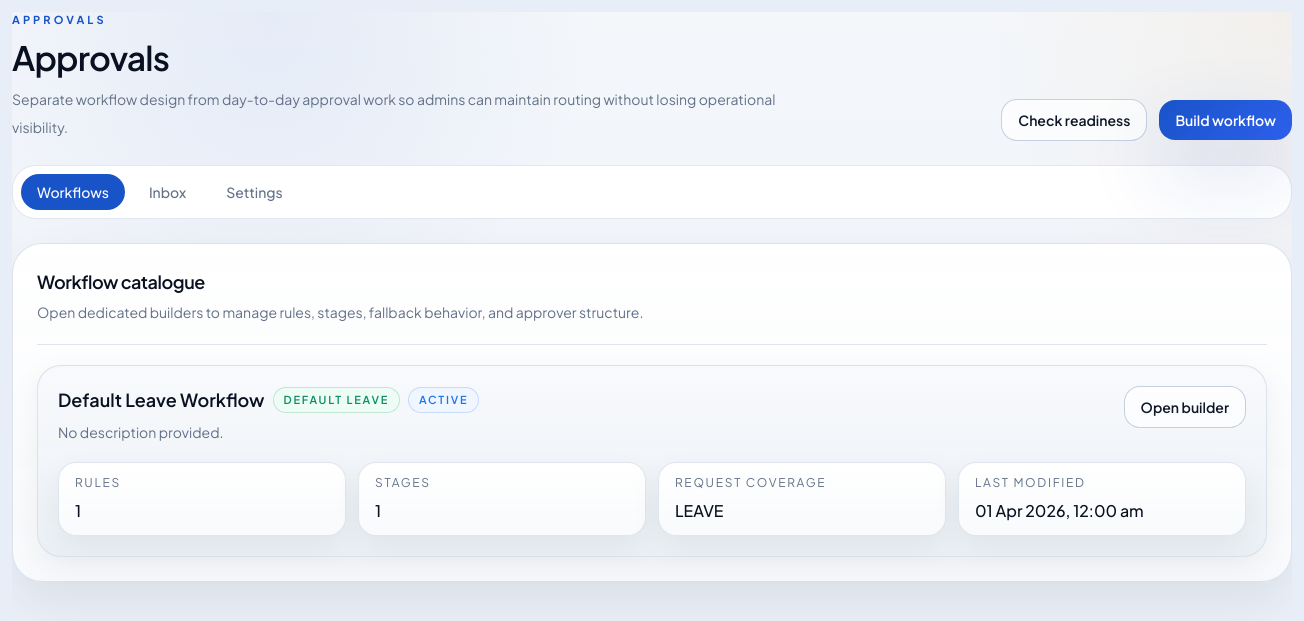
Test case: ApprovalWorkflowsPage › renders org-admin workflow catalogue and switches to the inbox tab
This screenshot has width=1304, height=621.
Expected: the heading "Approvals" is shown, [12,36,169,78]
Expected: the button "Build workflow" is shown, [1159,100,1292,140]
Click the button "Inbox": {"x": 168, "y": 192} [133,174,202,210]
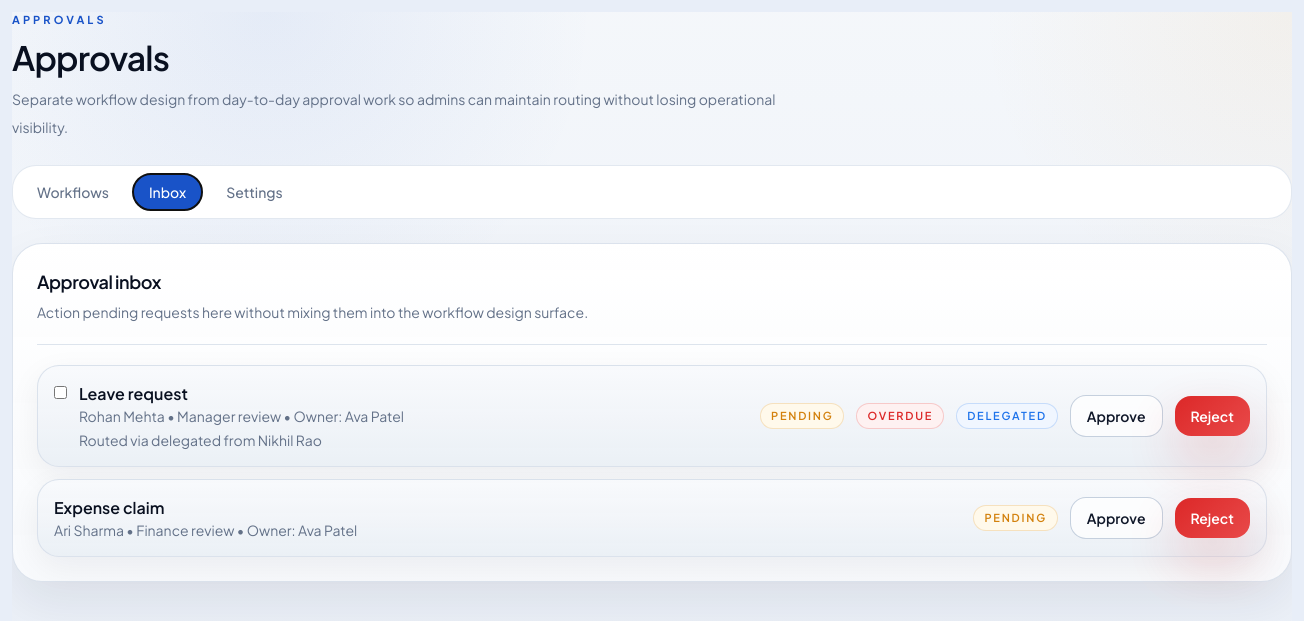
Expected: the heading "Approval inbox" is shown, [37,270,161,293]
Expected: the text "Leave request" is shown, [79,383,188,404]
Expected: the text "Delegated" is shown, [956,403,1058,429]
